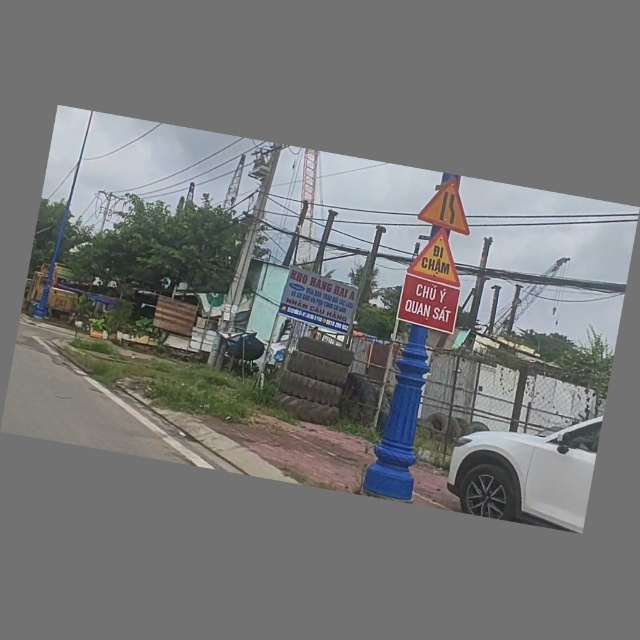W.203c: (417, 173, 480, 236)
W.245a: (407, 225, 471, 289)
